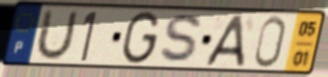0: (253, 13, 288, 70)
1: (80, 10, 99, 63)
A: (203, 13, 247, 68)
G: (119, 10, 162, 66)
S: (158, 12, 206, 66)
U: (32, 7, 81, 63)
